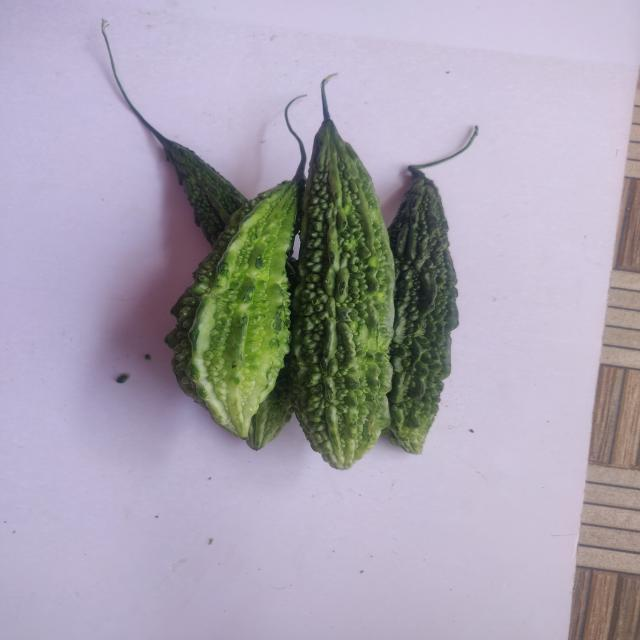Bitter Gourd: (159, 81, 314, 447), (291, 79, 395, 470), (383, 150, 463, 455)
